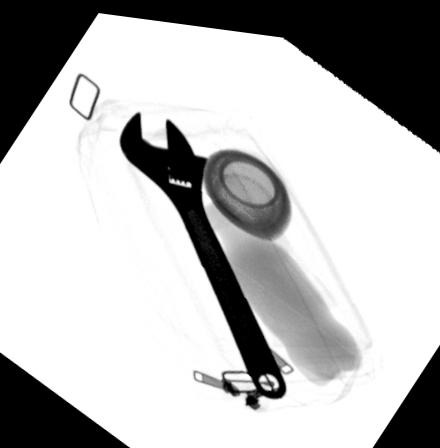Wrench: (117, 104, 288, 394)
